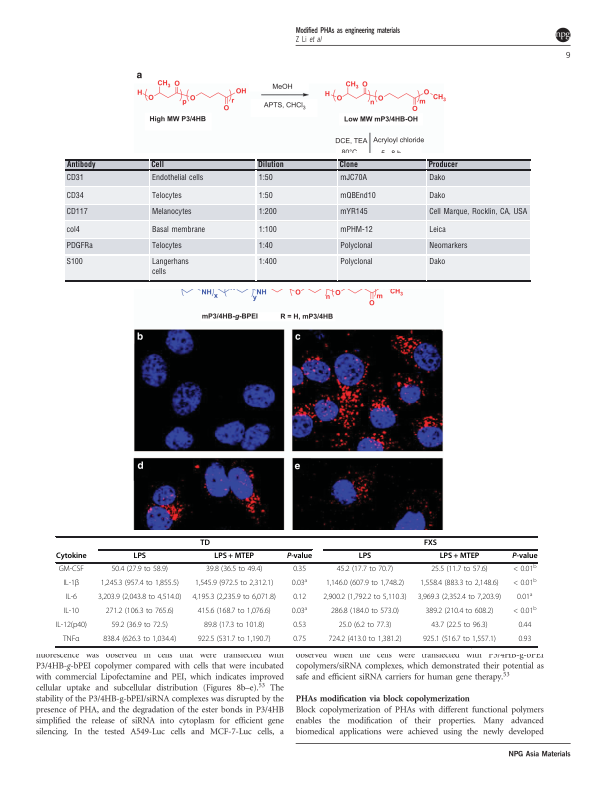borderless: (65, 158, 531, 280), (54, 535, 537, 646)
cell: (428, 207, 528, 217), (191, 593, 277, 603), (322, 593, 408, 603), (97, 593, 182, 603), (417, 593, 502, 603), (100, 579, 180, 589), (194, 579, 274, 589), (325, 579, 405, 589), (419, 579, 499, 589), (150, 257, 189, 277), (197, 607, 272, 617), (102, 635, 177, 645), (197, 635, 272, 645), (327, 635, 402, 645), (422, 635, 497, 645), (105, 607, 175, 617), (330, 607, 400, 617), (424, 607, 494, 617), (203, 621, 265, 631), (110, 565, 169, 575), (430, 565, 489, 575), (110, 621, 169, 631), (430, 621, 489, 631), (205, 565, 263, 575), (336, 565, 394, 575), (338, 621, 392, 631), (150, 225, 206, 234), (150, 173, 204, 182), (213, 552, 255, 562), (150, 207, 192, 217), (439, 552, 480, 562), (428, 241, 468, 251), (339, 241, 373, 251), (339, 257, 373, 267), (339, 191, 376, 200), (55, 621, 88, 631), (55, 552, 87, 562), (150, 241, 182, 251), (65, 160, 96, 170), (427, 160, 458, 170), (339, 225, 373, 234), (339, 207, 368, 217), (150, 191, 182, 200), (256, 160, 284, 170), (65, 241, 93, 251), (512, 564, 537, 575), (512, 578, 537, 589), (512, 606, 537, 617), (286, 552, 313, 562), (511, 552, 538, 562), (58, 565, 85, 575), (339, 173, 367, 182), (65, 207, 88, 217), (338, 160, 358, 170), (257, 207, 277, 217), (257, 257, 277, 267), (291, 578, 308, 589), (516, 592, 533, 603), (291, 606, 308, 617), (62, 579, 80, 589), (62, 635, 80, 645), (257, 225, 277, 234), (65, 257, 83, 267), (428, 257, 446, 267), (65, 173, 84, 182), (65, 191, 84, 200), (63, 607, 80, 617), (428, 173, 446, 182), (428, 191, 446, 200), (428, 225, 446, 234), (257, 241, 273, 251), (132, 552, 147, 562), (292, 565, 307, 575), (292, 593, 307, 603), (292, 621, 307, 631), (517, 621, 532, 631), (292, 635, 307, 645), (517, 635, 532, 645), (257, 173, 273, 182), (257, 191, 273, 200), (358, 552, 372, 562), (64, 593, 78, 603), (150, 160, 164, 170), (423, 539, 438, 548), (65, 225, 80, 234), (199, 539, 211, 548)
